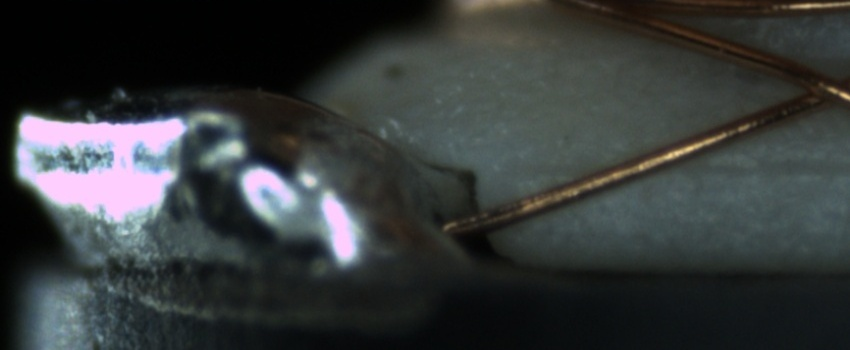CL: (771, 58, 848, 118)
DL: (523, 136, 850, 197)
